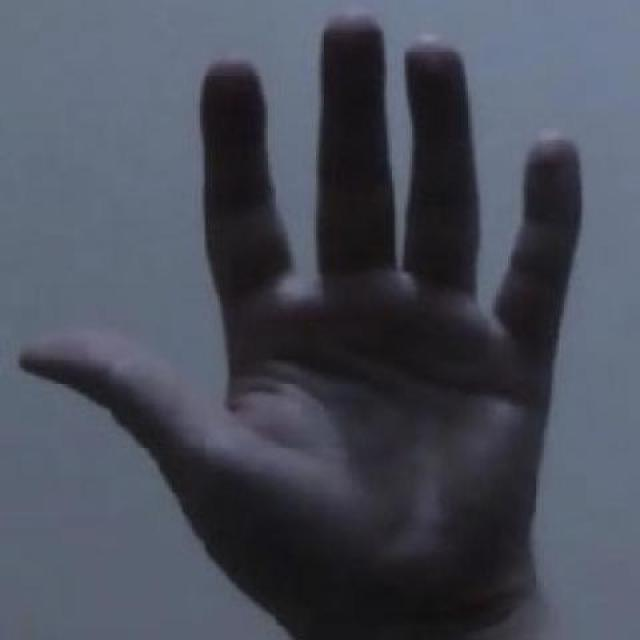Open Hand: (17, 9, 604, 640)
